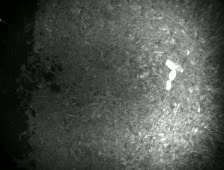corn: (164, 58, 178, 71), (168, 68, 177, 83), (175, 61, 185, 74), (164, 78, 173, 91)
